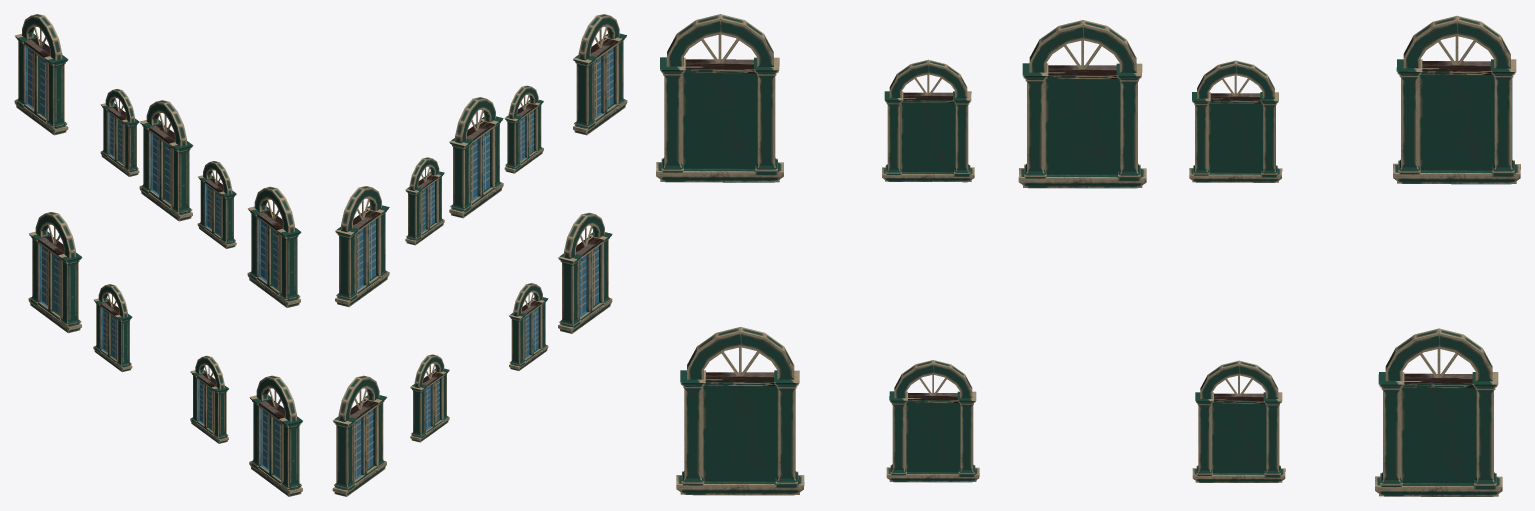
The model's file is 2.Window.fbx.
The picture shows the model from 3 angles, left to right: view 1: azimuth 30°, elevation 25°; view 2: azimuth 150°, elevation 25°; view 3: azimuth 270°, elevation 25°; orthographic projection. The views are drawn at different scales.
Parts seen in each view (by area): view 1: Cube.029, Cube.183; view 2: Cube.029, Cube.183; view 3: Cube.029.
Part boxes in pixels (x1,y1,x2,y2): Cube.029: [14, 14, 302, 496]; Cube.183: [28, 48, 281, 478]; Cube.029: [332, 14, 627, 496]; Cube.183: [354, 48, 613, 478]; Cube.029: [656, 14, 1520, 496].
Size of the model in its own units: 43.54 by 457 by 763.
